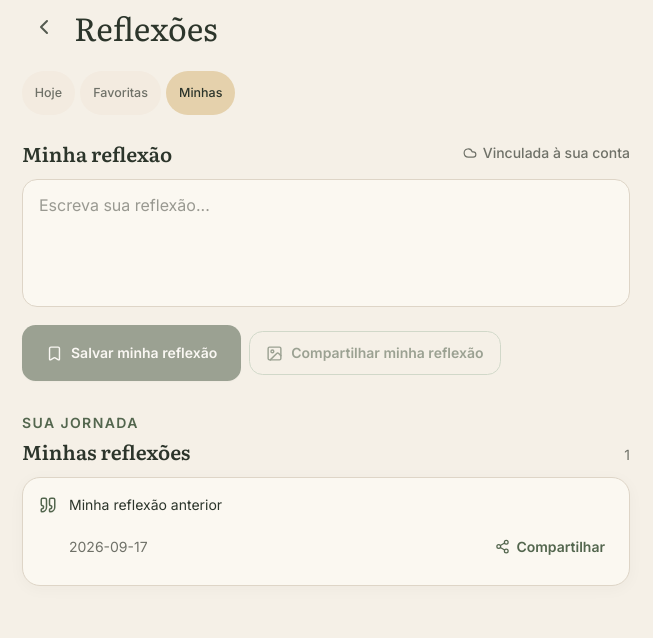
Test: editorial product interactions › preserves personal journal history under Minhas and saves through the existing service
The image size is (653, 638).
Expected: the text "Minha reflexão anterior" is shown, x1=69 y1=496 x2=222 y2=513
Type "Uma nova reflexão pessoal." into the text box named "Minha reflexão" at [326, 243], box x1=22 y1=179 x2=630 y2=307
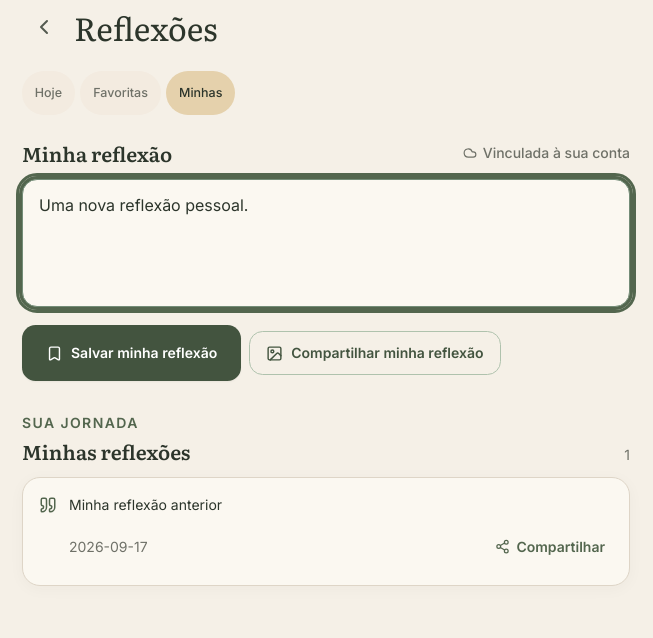
Click the button "Salvar minha reflexão" at [132, 353], box x1=22 y1=325 x2=241 y2=381
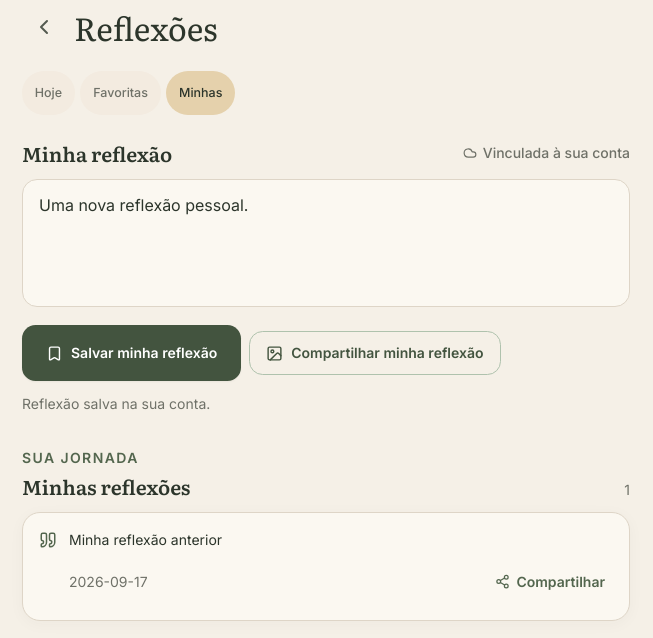
Expected: the text "Reflexão salva na sua conta." is shown, x1=22 y1=395 x2=210 y2=412
